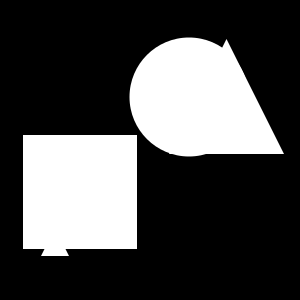circle: (23, 135, 137, 249)
rectangle: (130, 37, 248, 156)
triangle: (169, 39, 284, 154), (41, 228, 69, 256)
